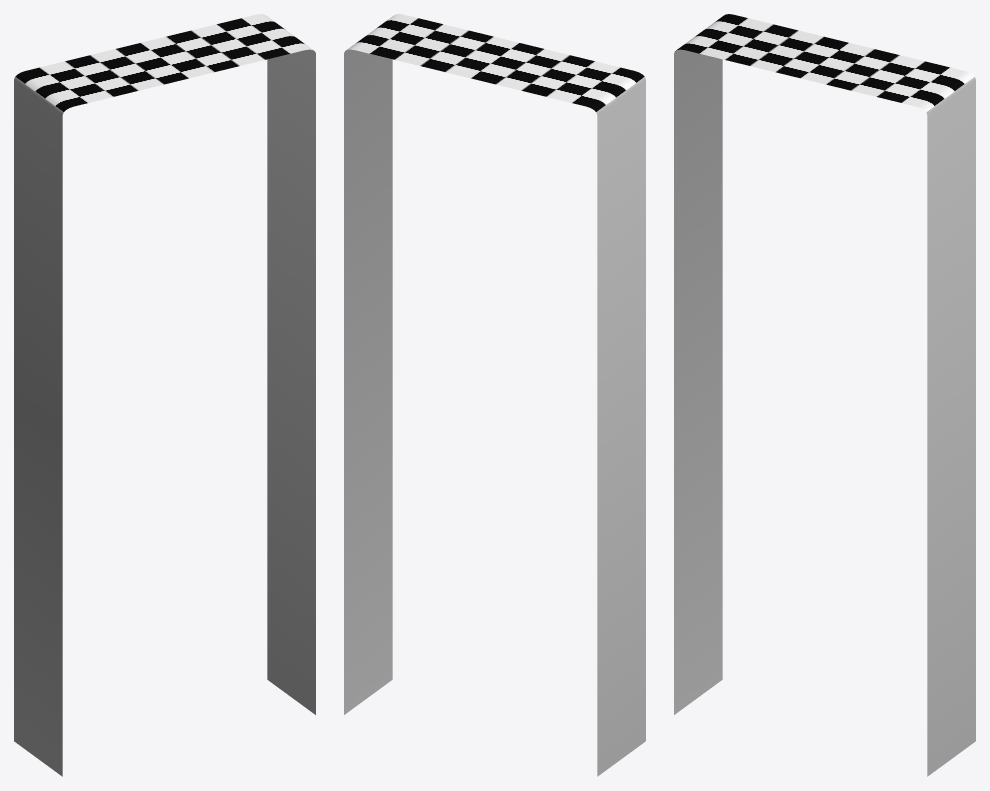
File: Way_Finish.fbx
The picture shows the model from 3 angles, left to right: view 1: azimuth 30°, elevation 25°; view 2: azimuth 150°, elevation 25°; view 3: azimuth 330°, elevation 25°; orthographic projection.
Visible parts, largest first — view 1: Finish_Way; view 2: Finish_Way; view 3: Finish_Way.
Boxes of the visible parts, <box> form: Finish_Way: <box>14,14,315,776</box>; Finish_Way: <box>344,14,645,776</box>; Finish_Way: <box>674,14,975,776</box>.
Bounding box in the file's own units: 600 × 1514 × 200.
